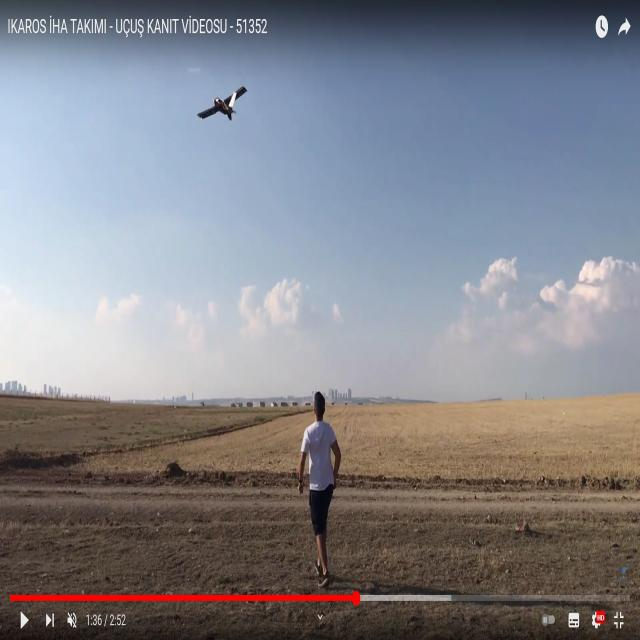iha: (197, 22, 248, 59)
